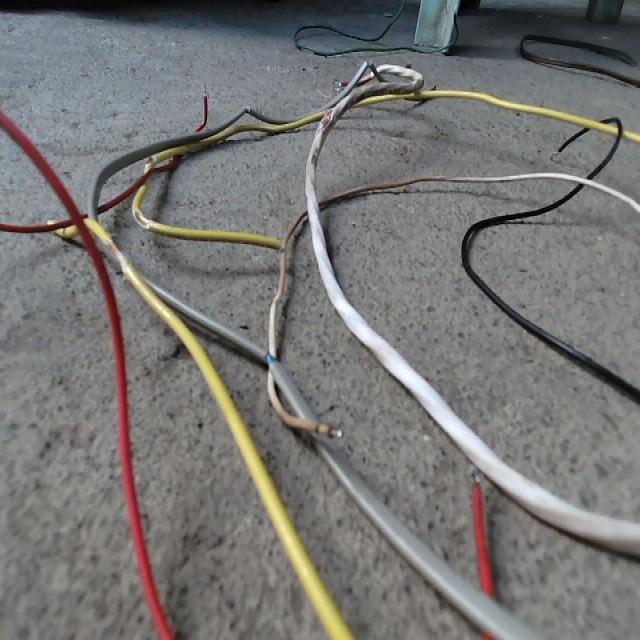-: (103, 236, 128, 272), (315, 107, 335, 136), (131, 205, 151, 228)
